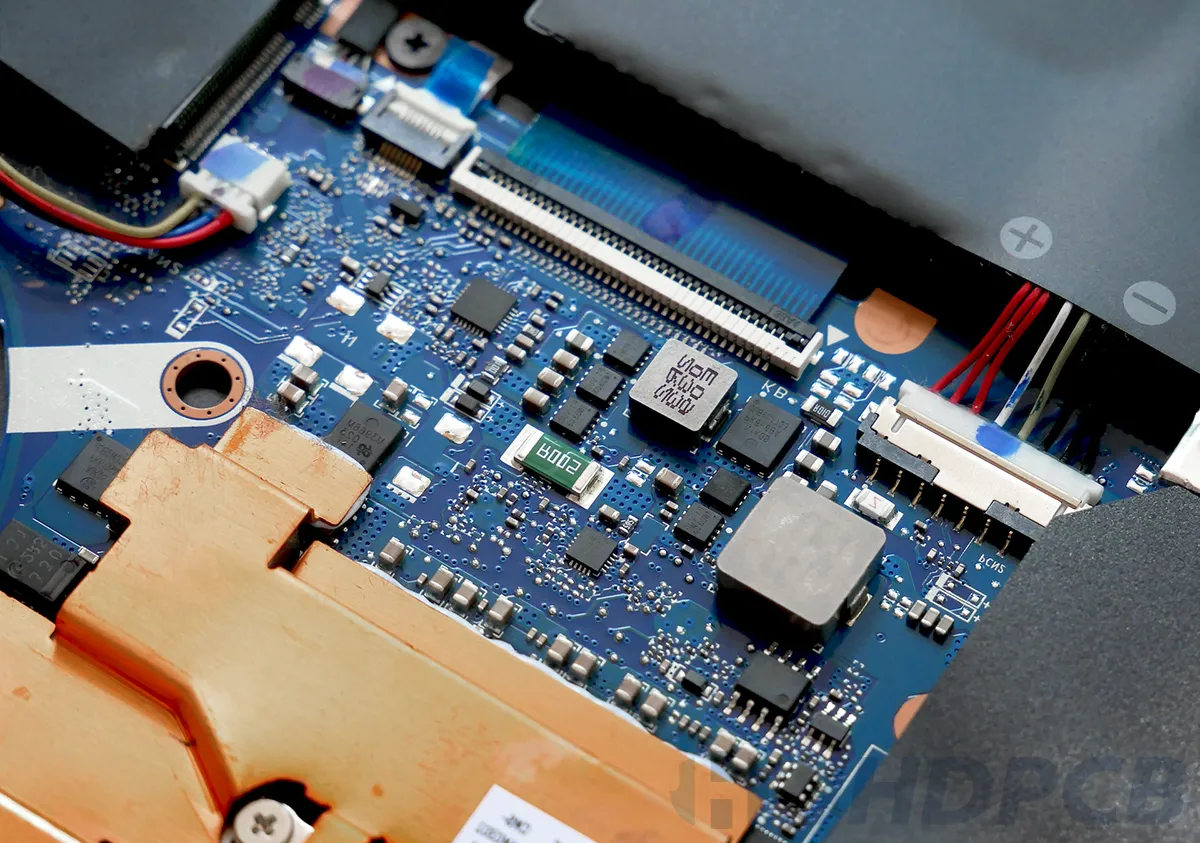Induktor: (715, 474, 890, 649), (627, 334, 735, 436)
